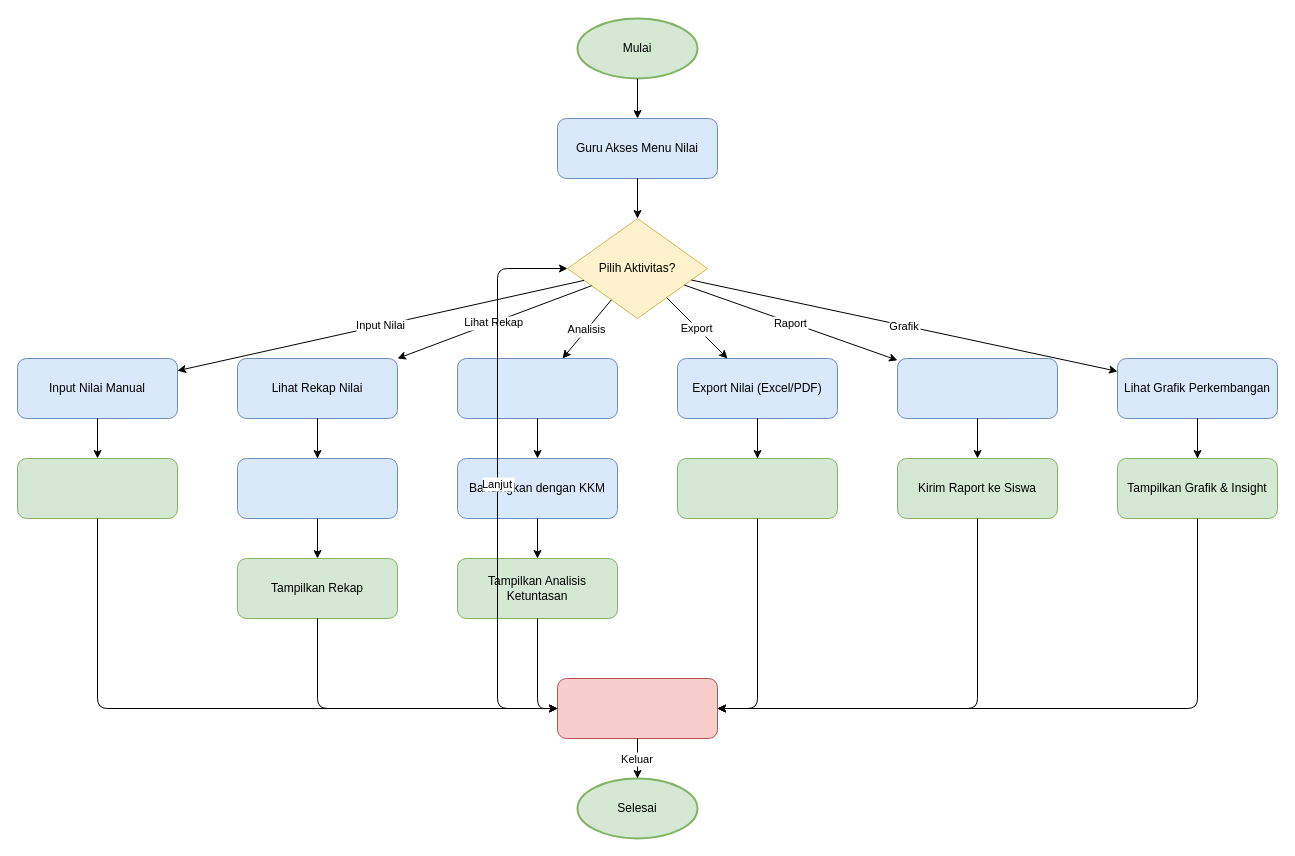
Some shapes in this 1295 by 856 pixel diagram are drawn without their labels. Here are the shapes that lost their labels. From the top down, the centre of each, then its label:
At point 537,388: "Analisis Ketuntasan".
At point 977,388: "Generate Raport Digital".
At point 97,488: "Simpan ke Database".
At point 317,488: "Hitung Nilai Akhir".
At point 757,488: "Download File".
At point 637,708: "Kembali ke Menu".
